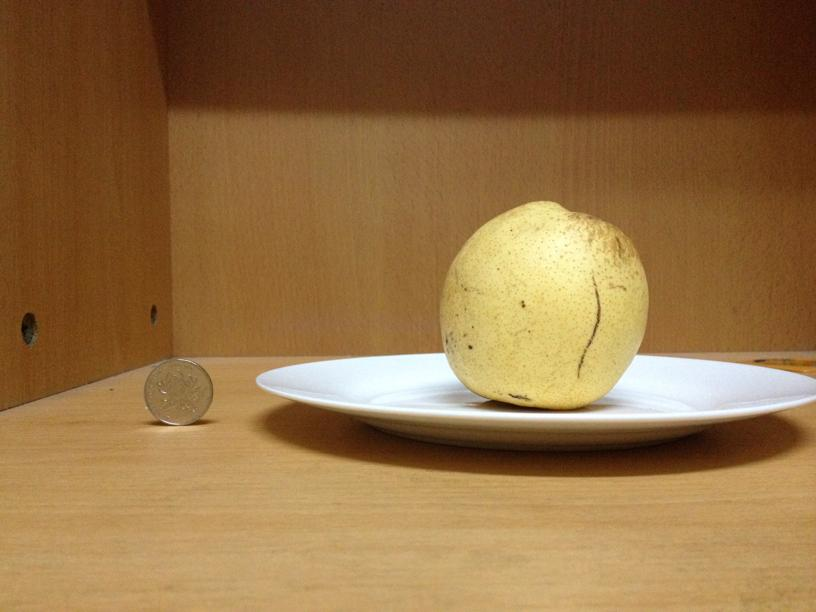coin: (141, 356, 214, 426)
pear: (435, 196, 647, 406)
